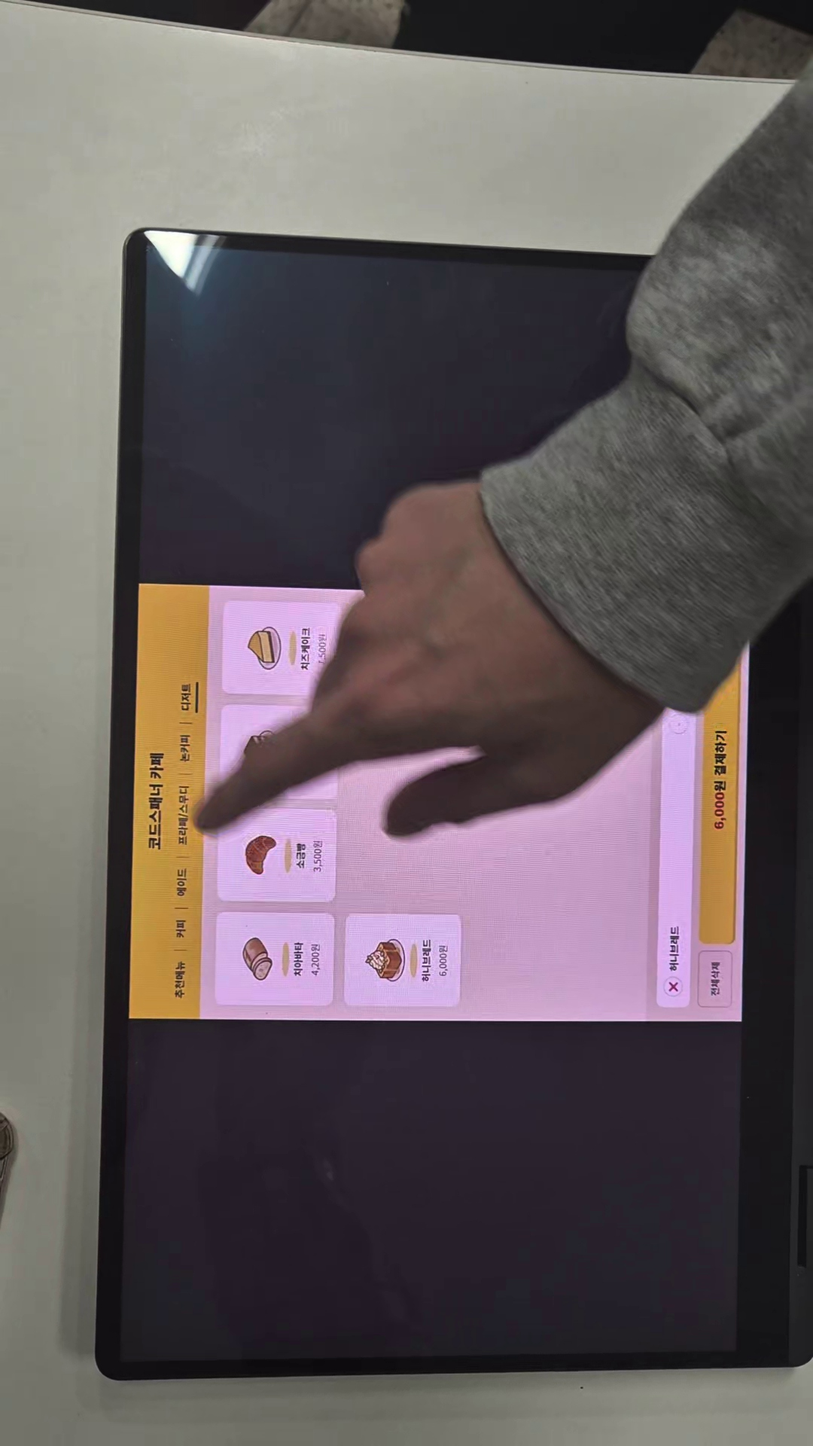action_button: (701, 621, 738, 939), (700, 950, 734, 1008)
cart_item: (656, 620, 696, 1006)
category_tab: (173, 784, 194, 848), (173, 675, 193, 720), (171, 958, 188, 1003), (175, 727, 195, 765), (175, 864, 192, 902), (173, 914, 191, 946)
menu_back: (218, 808, 338, 905), (221, 704, 339, 801), (217, 911, 334, 1008), (222, 598, 342, 692), (346, 914, 462, 1008)
menu_name: (290, 937, 306, 983), (297, 624, 312, 672), (419, 937, 435, 981), (294, 835, 309, 875)
menu_price: (309, 940, 324, 982), (317, 630, 328, 669), (438, 941, 448, 980), (314, 837, 323, 875)
